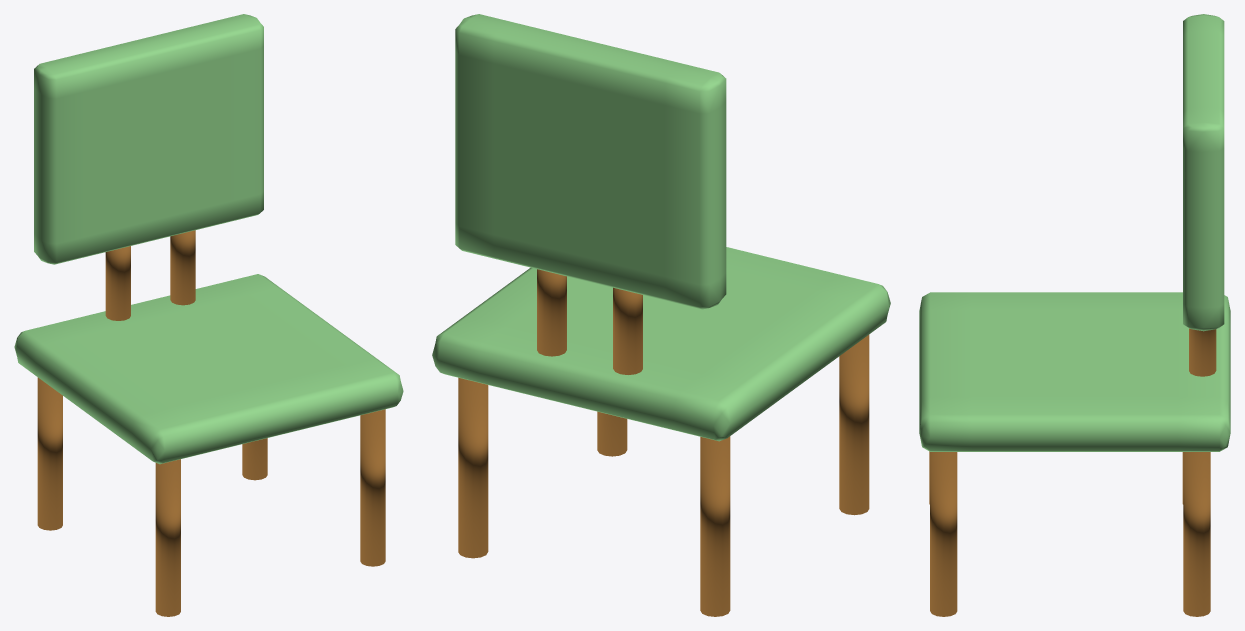
File: chair.fbx
3 views of the same model, side by side, from view 1: azimuth 30°, elevation 25°; view 2: azimuth 150°, elevation 25°; view 3: azimuth 270°, elevation 25° (orthographic). The views are drawn at different scales.
Parts seen in each view (by area): view 1: Cube_001; view 2: Cube_001; view 3: Cube_001.
Part boxes in pixels (x1,y1,x2,y2): Cube_001: (14,14,403,616); Cube_001: (432,14,890,616); Cube_001: (919,14,1230,616).
Size of the model in its own units: 2 by 3.46 by 2.
